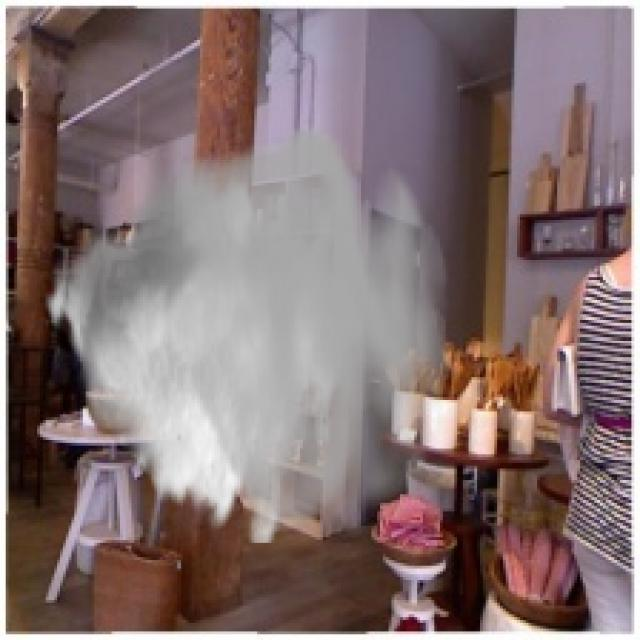smoke: (43, 120, 451, 543)
